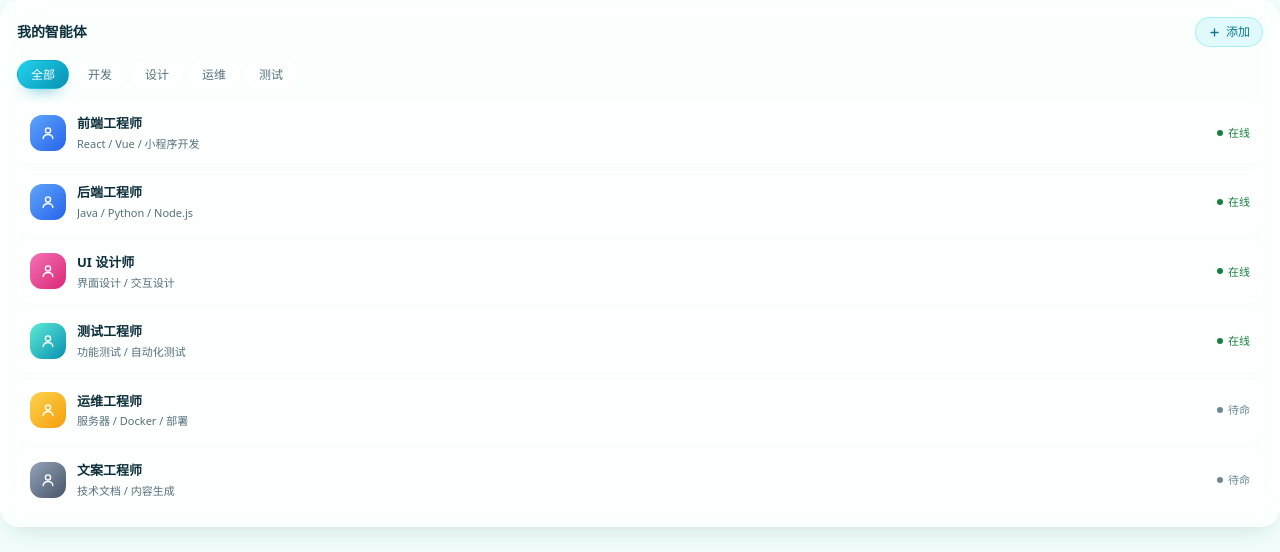
filtering is driven by aria-selected, not by CSS classes
Click the tab "运维": click(214, 74) 188,60 -> 240,89
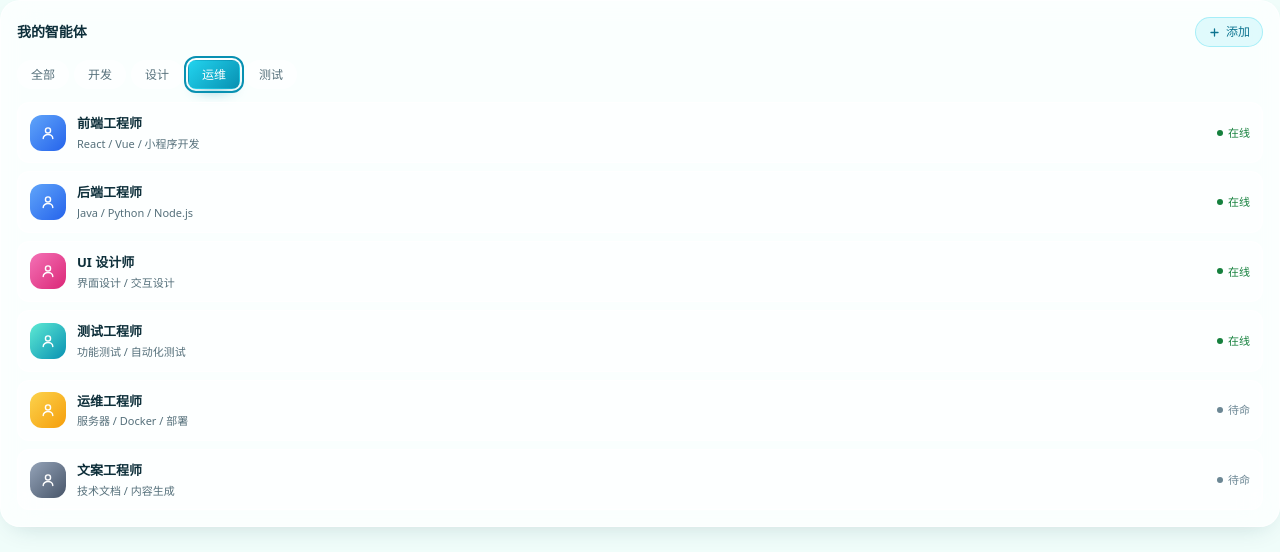
Check: the tab "运维" is selected, box 188,60 -> 240,89
Check: the tab "全部" is not selected, box 17,60 -> 69,89
